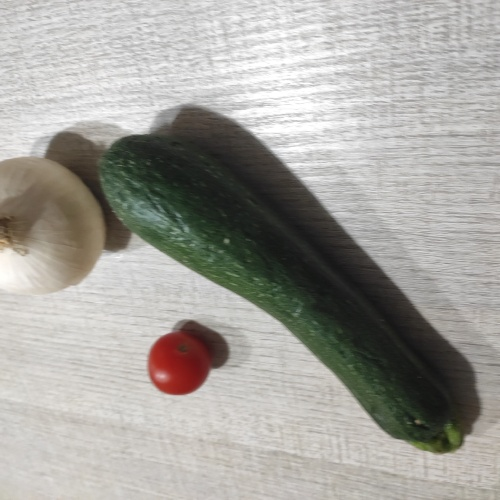cipolla: (3, 160, 103, 310)
pomodoro: (147, 326, 216, 397)
zucchine: (201, 148, 482, 449)
